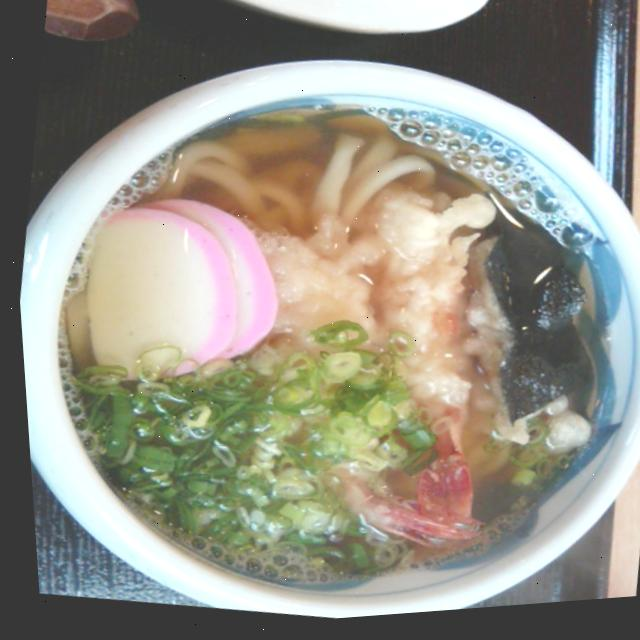面条主食: (5, 50, 640, 640)
